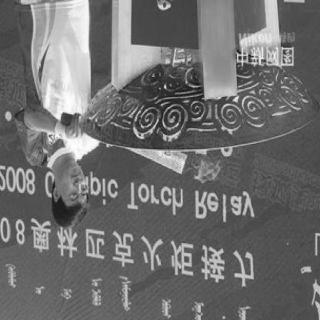Fire: (188, 157, 220, 200)
